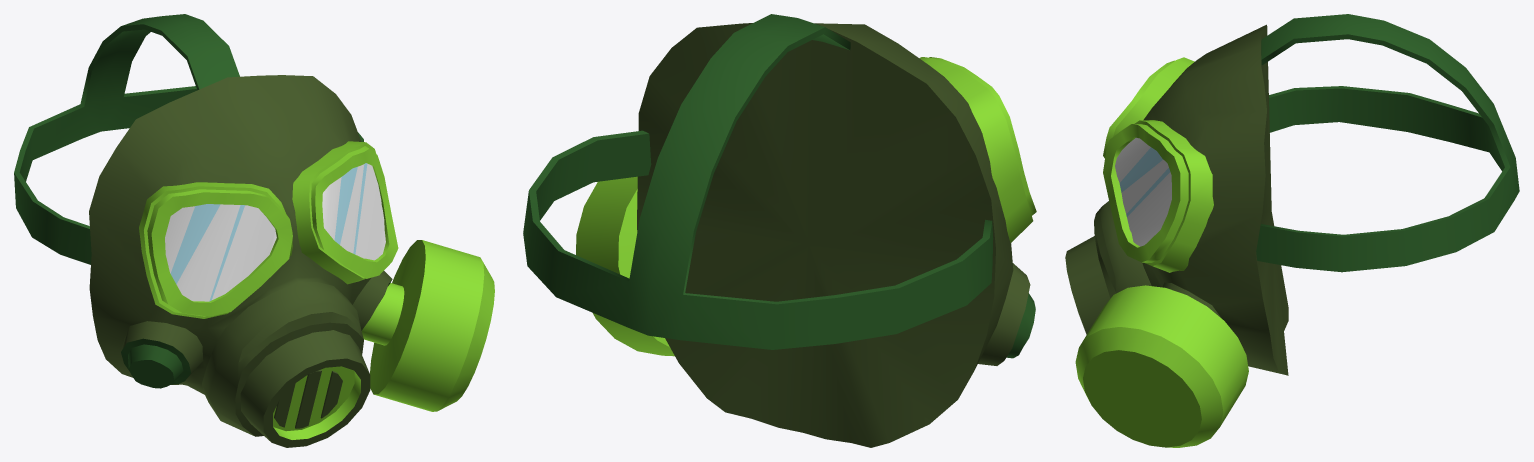
File: Gas_mask_01.fbx
The picture shows the model from 3 angles, left to right: view 1: azimuth 30°, elevation 25°; view 2: azimuth 150°, elevation 25°; view 3: azimuth 270°, elevation 25°; orthographic projection. The views are drawn at different scales.
Visible parts, largest first — view 1: Gas_mask_01.c, Gas_mask_01; view 2: Gas_mask_01.c, Gas_mask_01; view 3: Gas_mask_01.c, Gas_mask_01.
Part boxes in pixels (x1=…): Gas_mask_01.c: x1=89, y1=75, x2=494, y2=447; Gas_mask_01: x1=14, y1=14, x2=363, y2=264; Gas_mask_01.c: x1=576, y1=23, x2=1036, y2=447; Gas_mask_01: x1=523, y1=14, x2=993, y2=349; Gas_mask_01.c: x1=1065, y1=24, x2=1288, y2=447; Gas_mask_01: x1=1256, y1=14, x2=1519, y2=272.
Size of the model in its own units: 0.7565 by 0.6817 by 0.8019.
